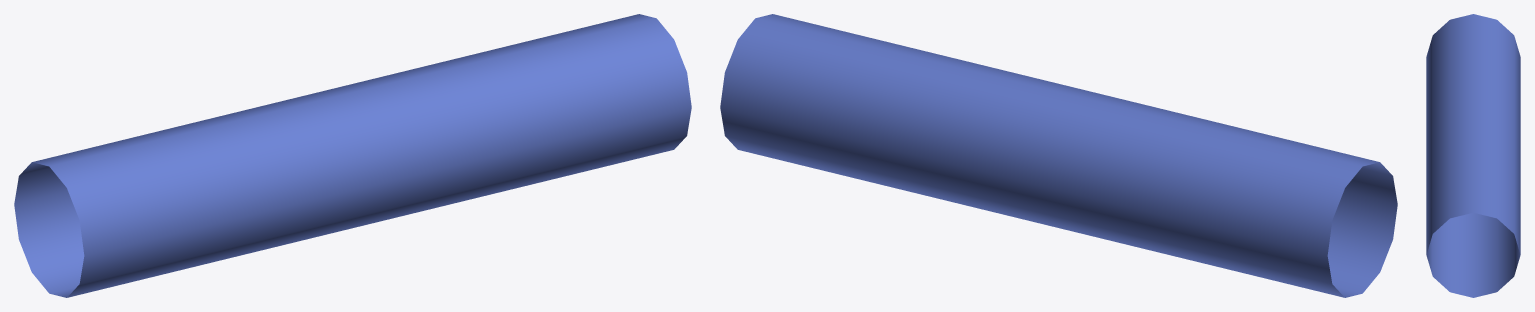
File: pipe-straight.fbx
3 renders of one model, left to right at view 1: azimuth 30°, elevation 25°; view 2: azimuth 150°, elevation 25°; view 3: azimuth 270°, elevation 25°, orthographic. The views are drawn at different scales.
Visible parts, largest first — view 1: Cylinder_003; view 2: Cylinder_003; view 3: Cylinder_003.
Part boxes in pixels (box(x1,y1,x2,y2)): Cylinder_003: box(14, 14, 691, 297); Cylinder_003: box(720, 14, 1397, 297); Cylinder_003: box(1426, 14, 1520, 297).
Size of the model in its own units: 2 by 0.4 by 0.4.
